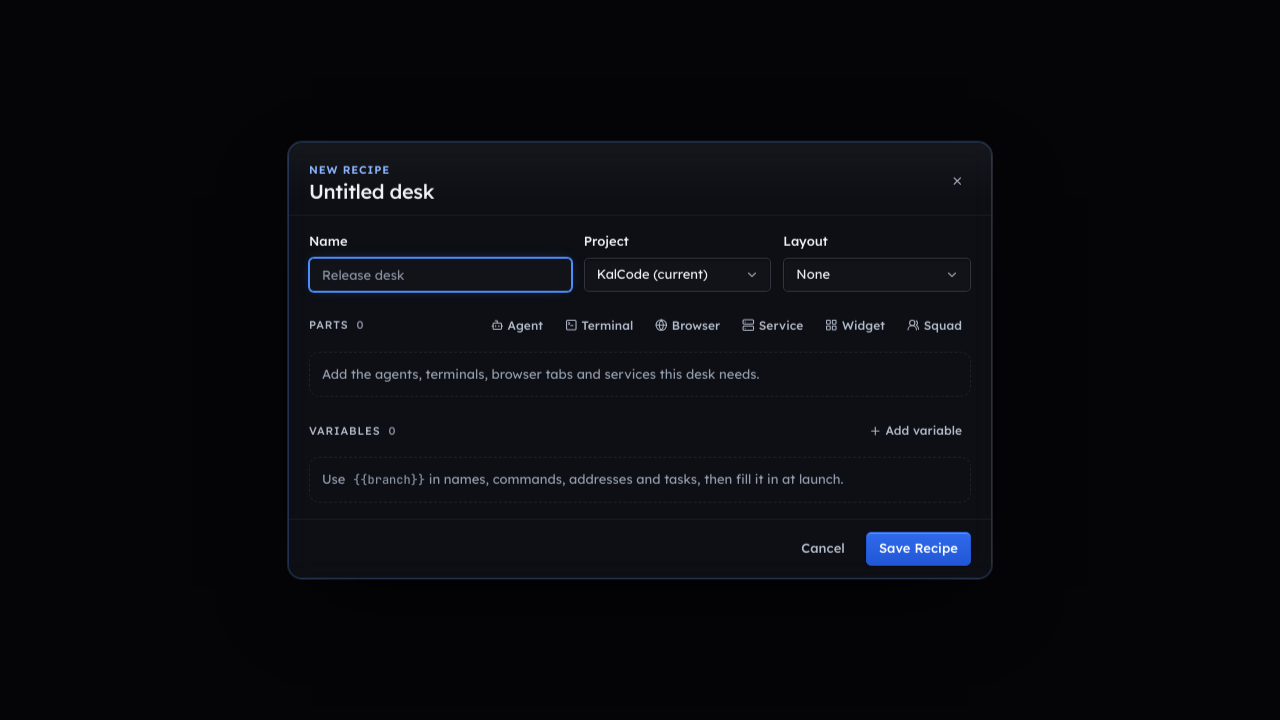
Test: RecipeEditor › shows a native rejection inline and stays open
Type "Desk" into the field labelled "Name" at (440, 274), box [309, 257, 572, 291]
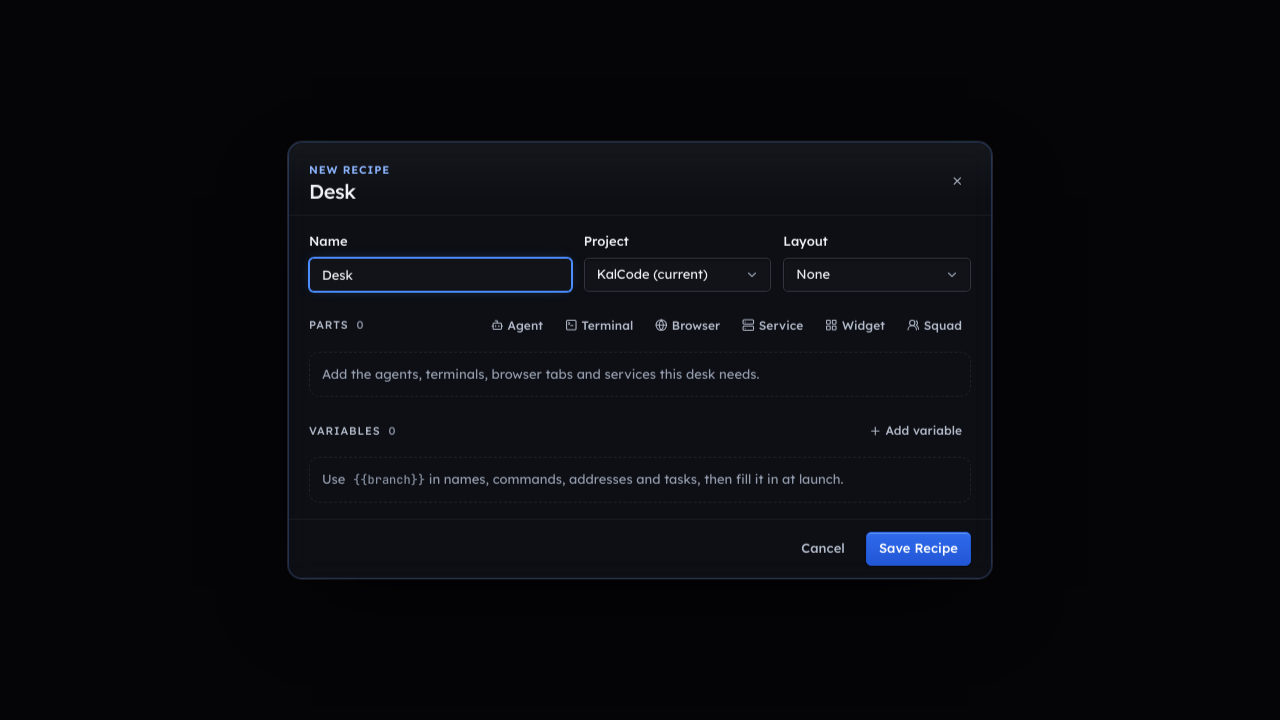
Click the button "Save Recipe" at (918, 548), box [866, 531, 971, 565]
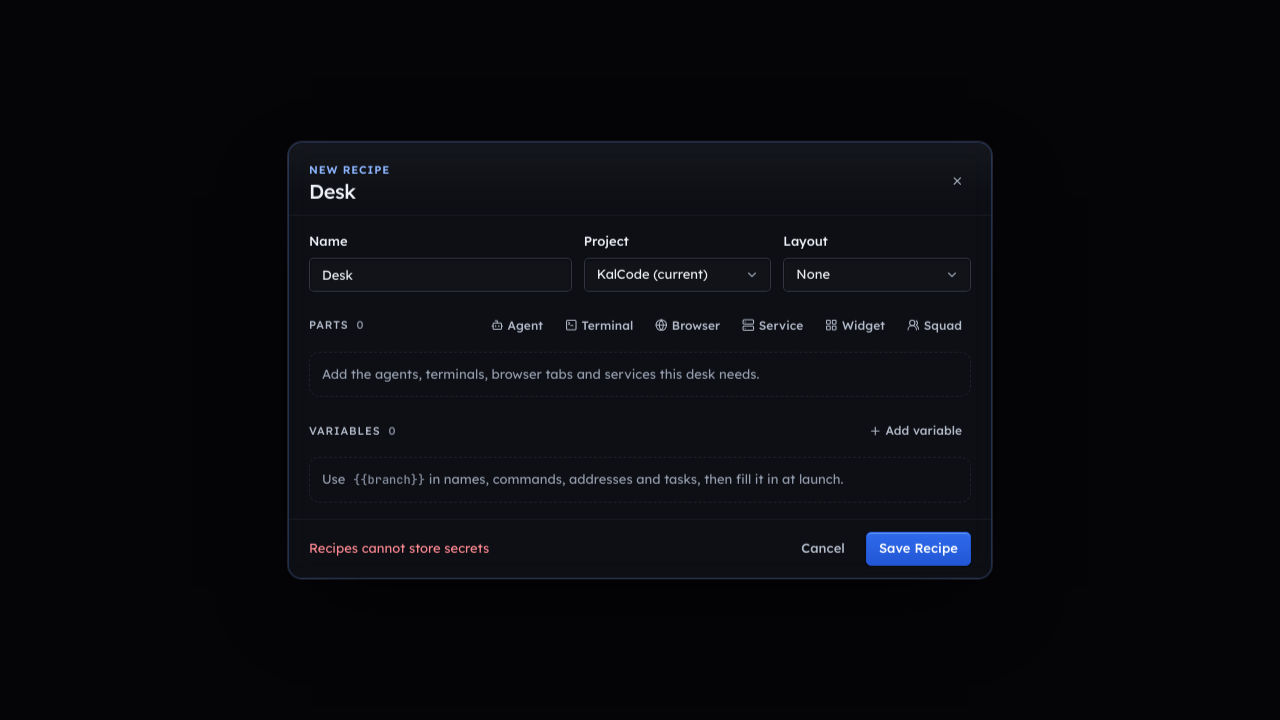
Now the text "Recipes cannot store secrets" is shown, box [309, 540, 489, 556]
